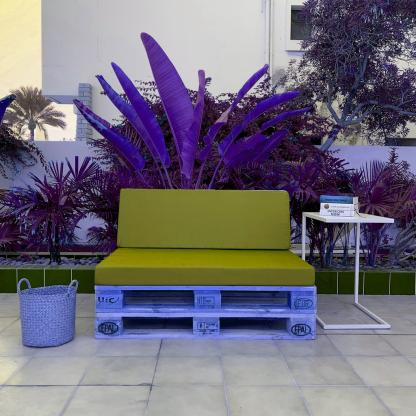BoxFace: (93, 313, 318, 343), (95, 285, 320, 313)
